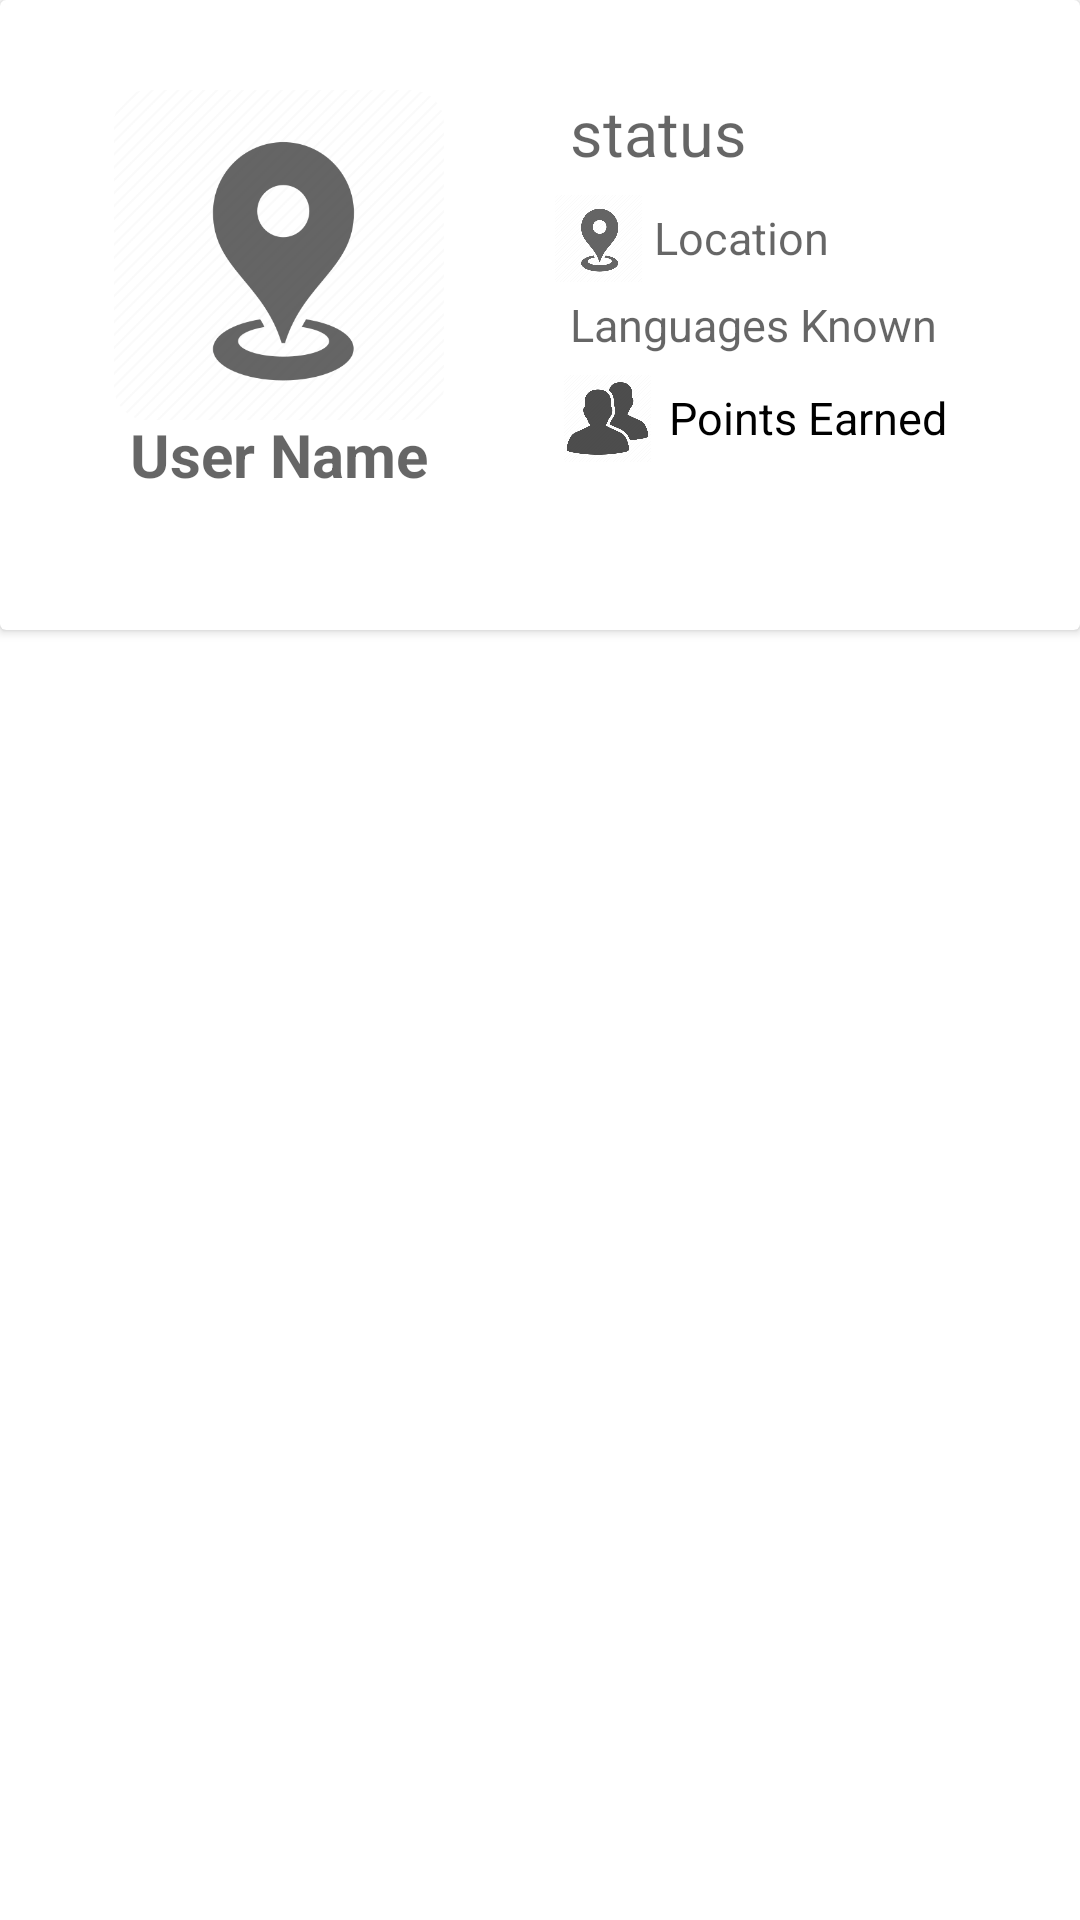

Where icons sit on this 1080 x 1920 app screen, as (x1, y1, x2, y2):
people: (567, 382, 648, 455)
